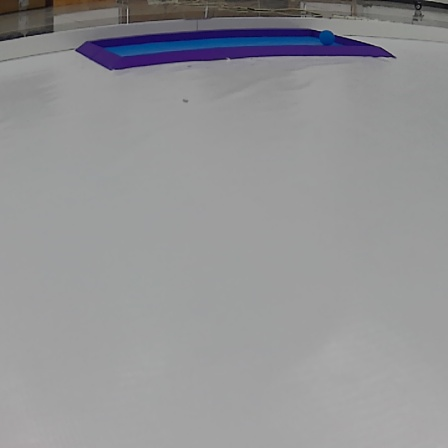blue: (317, 27, 339, 46)
blue_aim: (73, 27, 398, 73)
